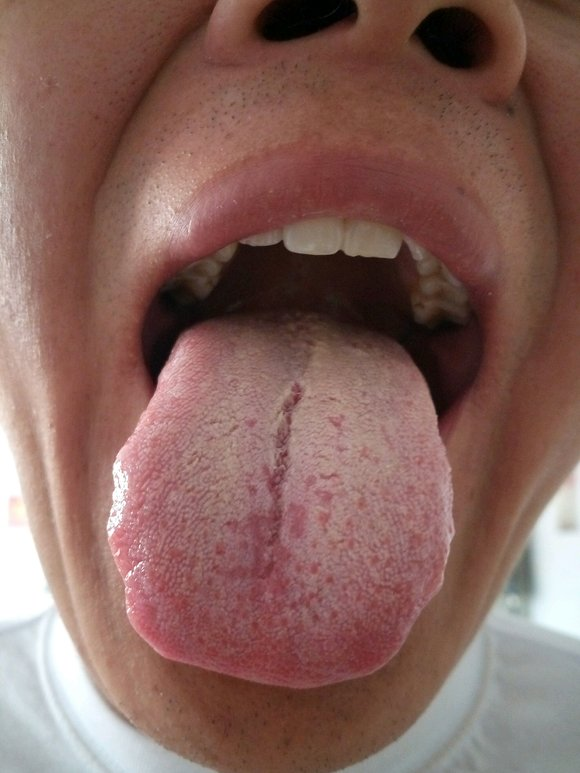baitaishe: (105, 309, 453, 689)
hongdianshe: (323, 572, 335, 587)
hongshe: (105, 309, 453, 689)
liewenshe: (268, 379, 304, 508)
